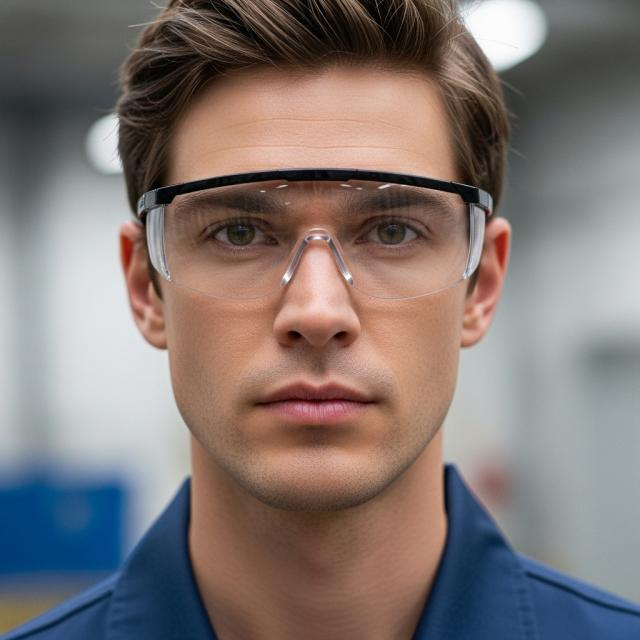oculos-epi: (139, 169, 492, 299)
